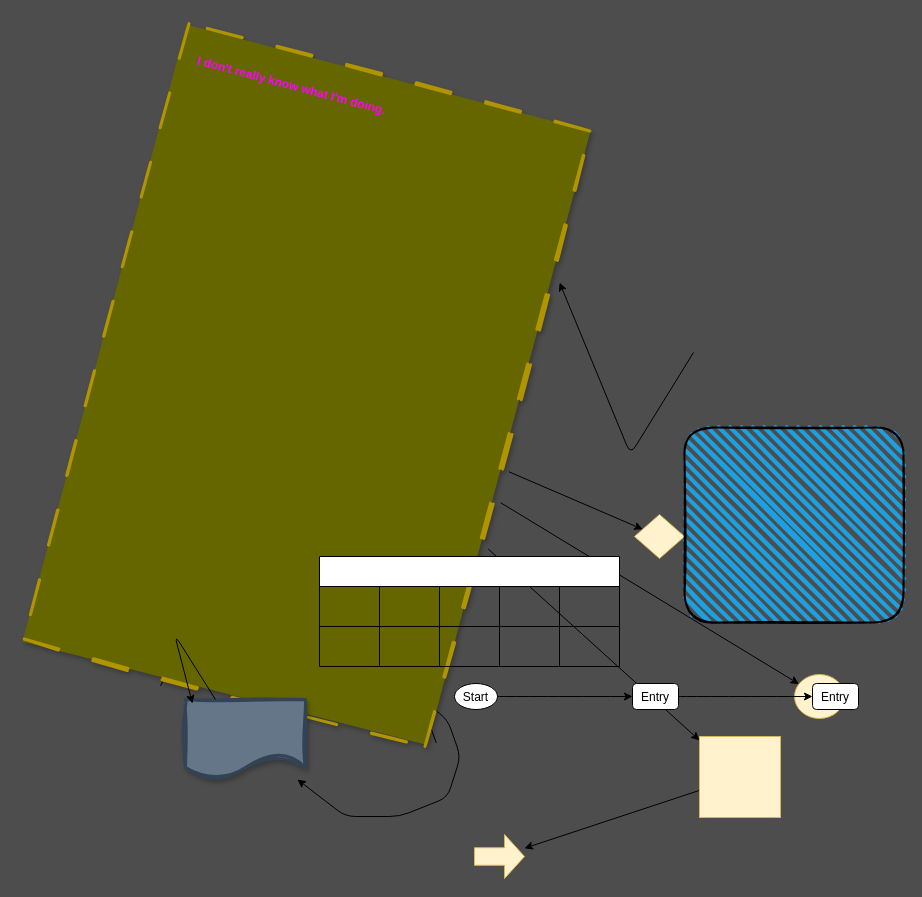
Some shapes in this 922 by 897 pixel diagram are drawn without their labels. The shapes that lost their labels are listed below. From the top down, each one's centre as x and y in pixels, then its label:
pixel 469 611: Table
pixel 739 777: Hello world.
